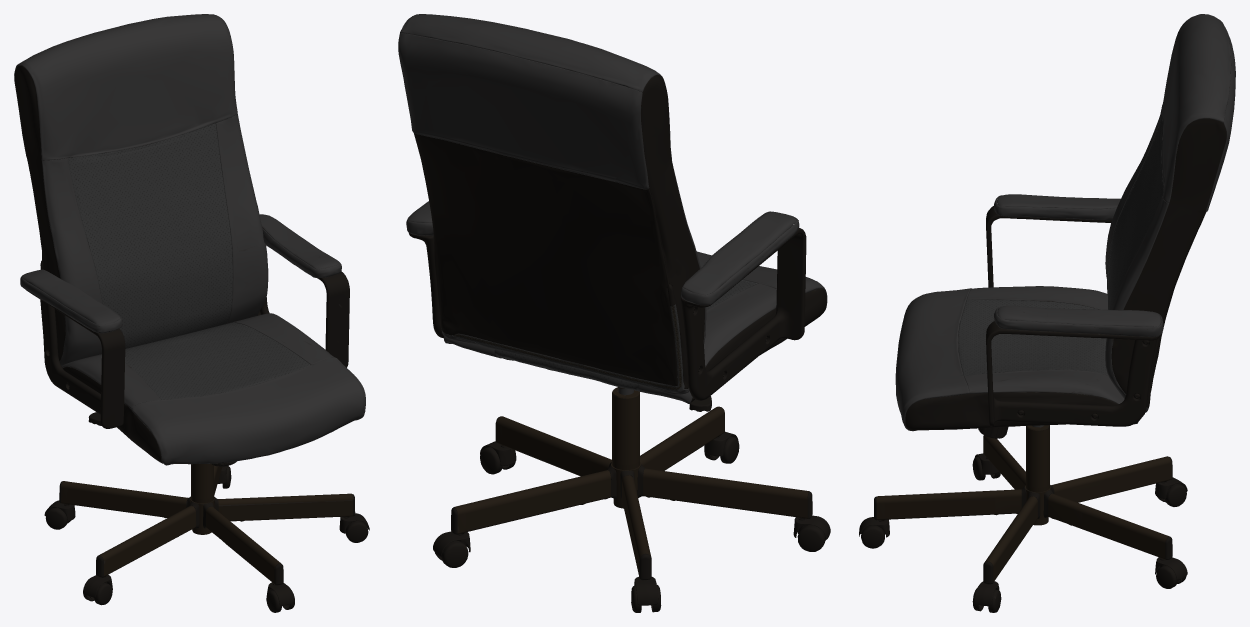
The model's file is millberget_swivel_chair_murum_black.glb.
The picture shows the model from 3 angles, left to right: view 1: azimuth 30°, elevation 25°; view 2: azimuth 150°, elevation 25°; view 3: azimuth 270°, elevation 25°; orthographic projection. The views are drawn at different scales.
Parts seen in each view (by area): view 1: 70489394-MILLBERGET001; view 2: 70489394-MILLBERGET001; view 3: 70489394-MILLBERGET001.
Part boxes in pixels (<box>): 70489394-MILLBERGET001: <box>14,14,369,612</box>; 70489394-MILLBERGET001: <box>398,14,830,612</box>; 70489394-MILLBERGET001: <box>859,14,1235,612</box>.
Bounding box in the file's own units: 0.7138 × 1.12 × 0.78.
2 materials, 2 textured.
